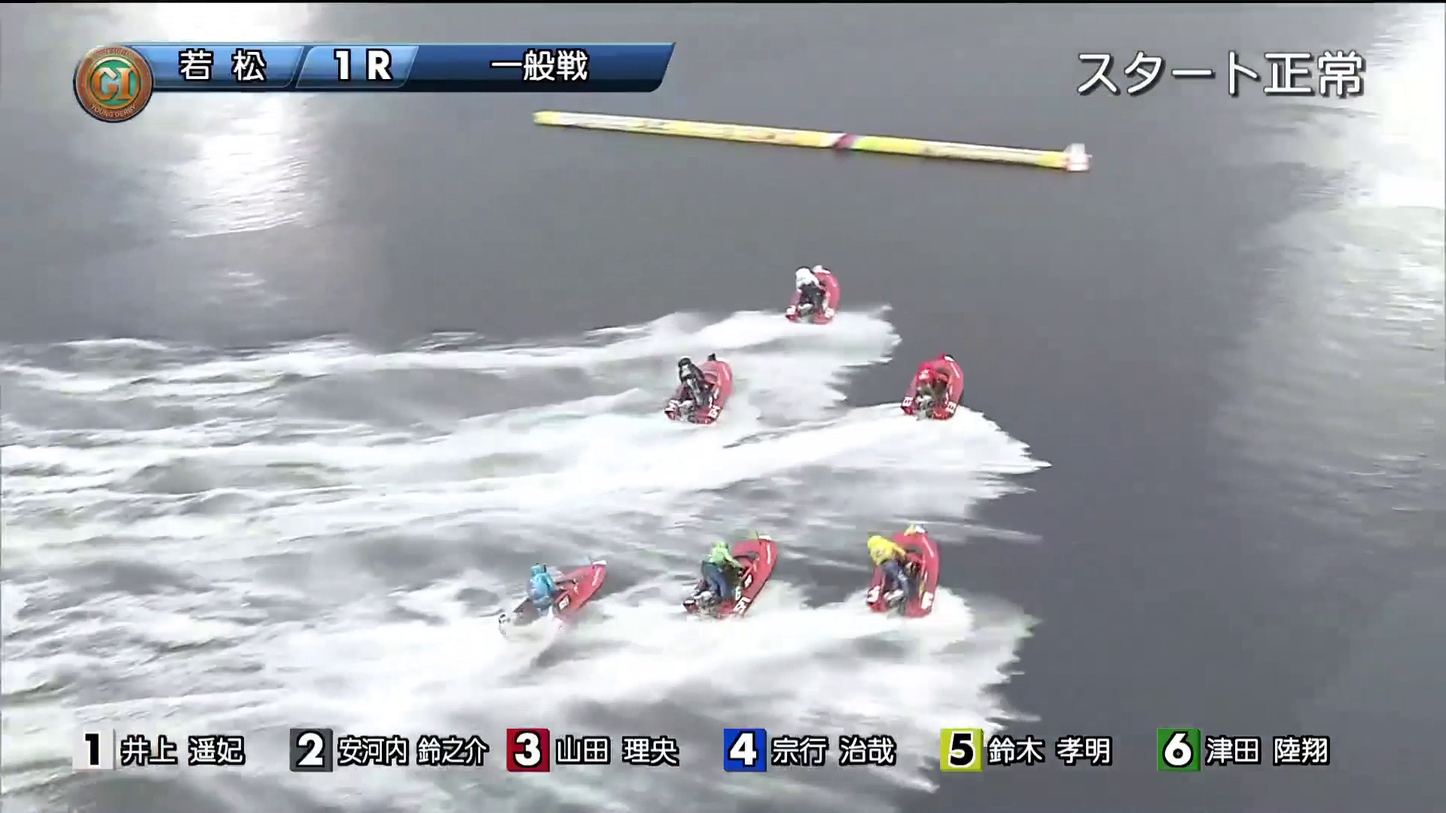１号艇: (763, 263, 850, 317)
２号艇: (639, 355, 768, 415)
３号艇: (872, 370, 980, 417)
４号艇: (644, 540, 778, 606)
５号艇: (456, 574, 579, 629)
６号艇: (848, 528, 947, 585)
